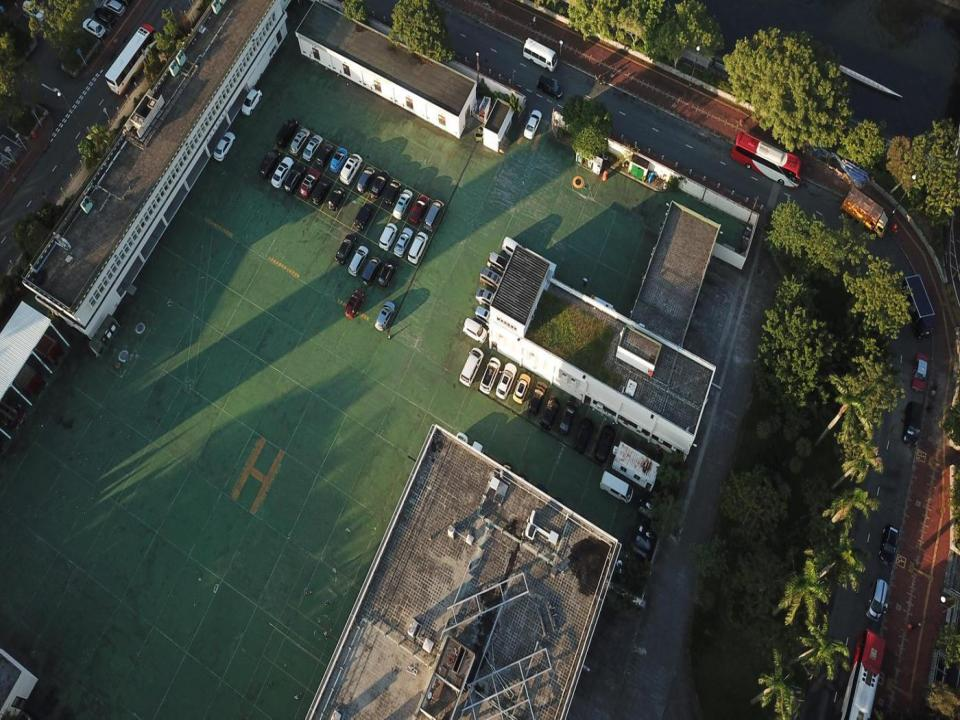bus: (839, 629, 886, 719), (105, 22, 160, 96), (731, 133, 802, 188), (522, 38, 558, 72)
car: (902, 401, 924, 446), (594, 424, 616, 463), (878, 526, 899, 566), (479, 357, 501, 394), (539, 394, 560, 429), (486, 251, 514, 277), (282, 164, 306, 194), (496, 362, 516, 398), (910, 354, 928, 394), (527, 381, 548, 415), (573, 418, 592, 454), (559, 398, 577, 436), (271, 157, 293, 188), (213, 132, 235, 162), (374, 300, 396, 330), (392, 189, 413, 220), (288, 127, 311, 155), (241, 87, 262, 117), (335, 234, 356, 264), (463, 317, 487, 343), (258, 150, 280, 178), (393, 228, 413, 258), (370, 169, 390, 199), (512, 374, 532, 404), (523, 109, 542, 140), (299, 169, 320, 197), (302, 134, 323, 162), (409, 195, 430, 223), (311, 177, 331, 205), (378, 258, 398, 286), (475, 286, 499, 309), (345, 290, 363, 320), (379, 223, 398, 251), (502, 236, 526, 258), (329, 146, 348, 173), (94, 8, 117, 30), (22, 0, 46, 21), (326, 186, 347, 210), (479, 266, 503, 287), (382, 180, 401, 206), (358, 164, 374, 192), (82, 18, 104, 38), (356, 202, 372, 229), (315, 142, 333, 166), (474, 306, 494, 326), (101, 0, 125, 16)
truck: (840, 186, 889, 236), (901, 273, 935, 340)
van: (600, 470, 634, 503), (459, 346, 483, 388), (865, 578, 887, 622), (406, 231, 428, 265), (276, 117, 299, 146), (339, 154, 361, 184), (424, 199, 444, 231), (348, 245, 368, 277), (537, 74, 562, 99), (362, 257, 381, 286)
